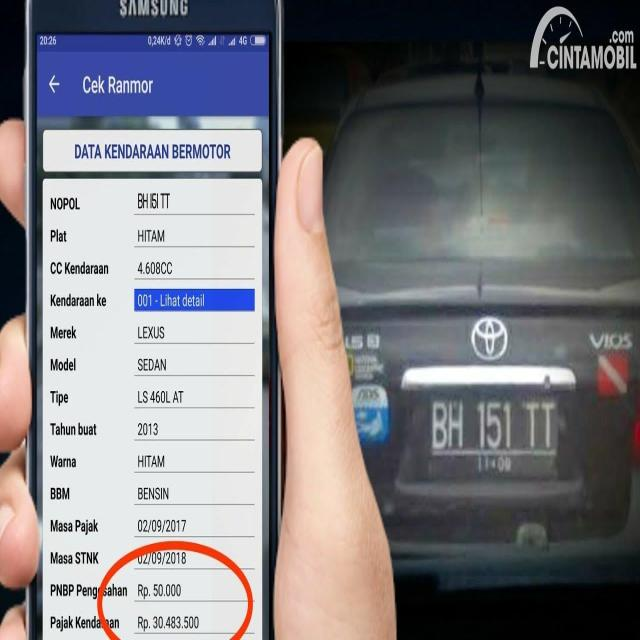lisence-plate: (425, 382, 568, 491)
